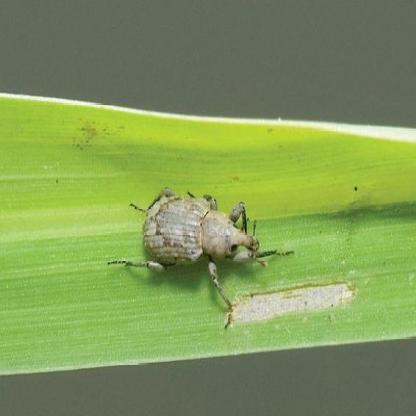rice-bug: (139, 184, 261, 286)
